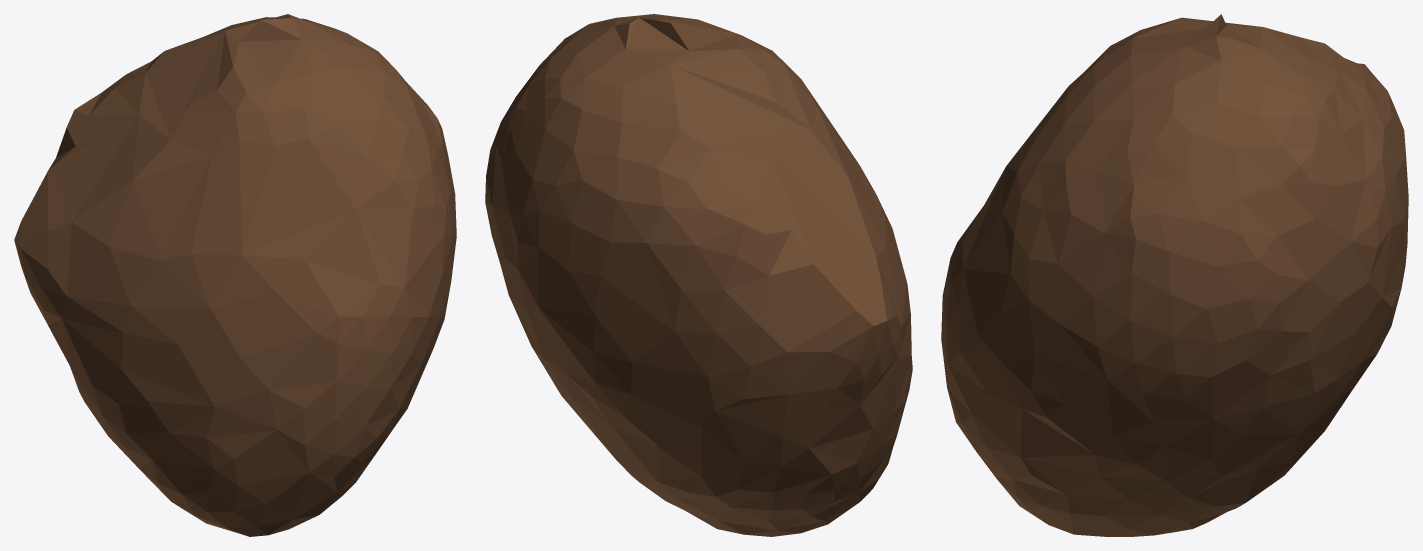
Rendered from Model_10656_LH__Medial_cerebellar_nucleus_(Med).obj.
3 renders of one model, left to right at view 1: azimuth 30°, elevation 25°; view 2: azimuth 150°, elevation 25°; view 3: azimuth 270°, elevation 25°, orthographic. The views are drawn at different scales.
Bounding box in the file's own units: 0.9697 × 1.13 × 0.8852.
